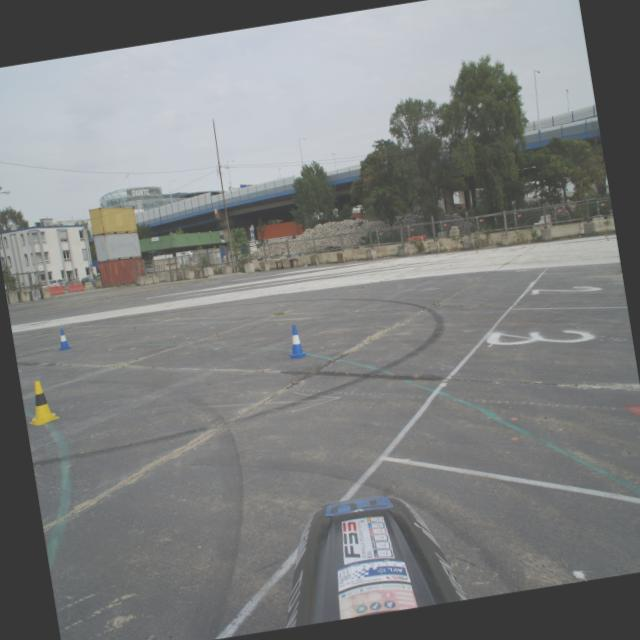blue_cone: (282, 324, 308, 360), (54, 328, 74, 351)
yellow_cone: (23, 378, 61, 427)
